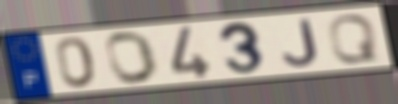0: (54, 36, 98, 89)
3: (216, 20, 270, 77)
4: (169, 24, 214, 81)
J: (281, 18, 321, 69)
O: (104, 29, 161, 86)
Q: (325, 13, 382, 65)
